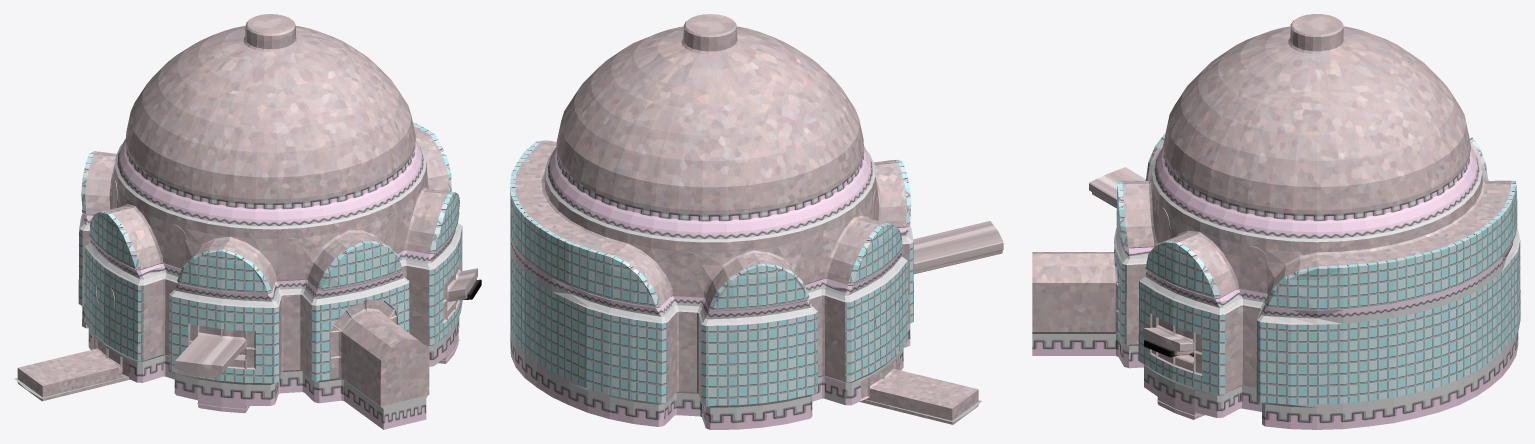
File: AstroDomeWell.dae
3 views of the same model, side by side, from view 1: azimuth 30°, elevation 25°; view 2: azimuth 150°, elevation 25°; view 3: azimuth 270°, elevation 25° (orthographic). The views are drawn at different scales.
Parts seen in each view (by area): view 1: m0, m1, m3; view 2: m0, m3, m1; view 3: m0, m3, m1.
Boxes of the visible parts, x1=… form: m0: x1=17, y1=14, x2=477, y2=411; m1: x1=79, y1=138, x2=461, y2=429; m3: x1=78, y1=122, x2=462, y2=383; m0: x1=515, y1=14, x2=1003, y2=424; m3: x1=510, y1=140, x2=913, y2=405; m1: x1=510, y1=146, x2=913, y2=429; m0: x1=1032, y1=14, x2=1511, y2=419; m3: x1=1114, y1=133, x2=1520, y2=404; m1: x1=1032, y1=147, x2=1519, y2=429.
Bounding box in the file's own units: 2242 × 1624 × 2187.
